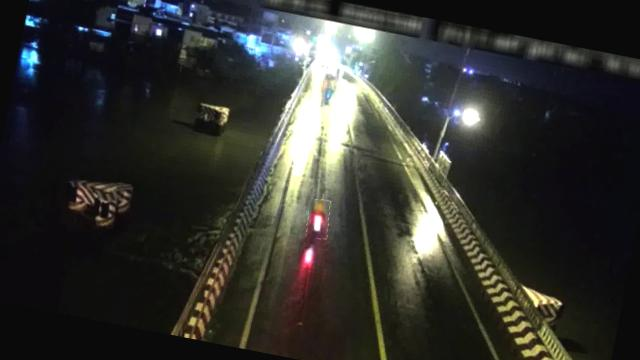Bike: (304, 197, 333, 240), (322, 82, 337, 106)
